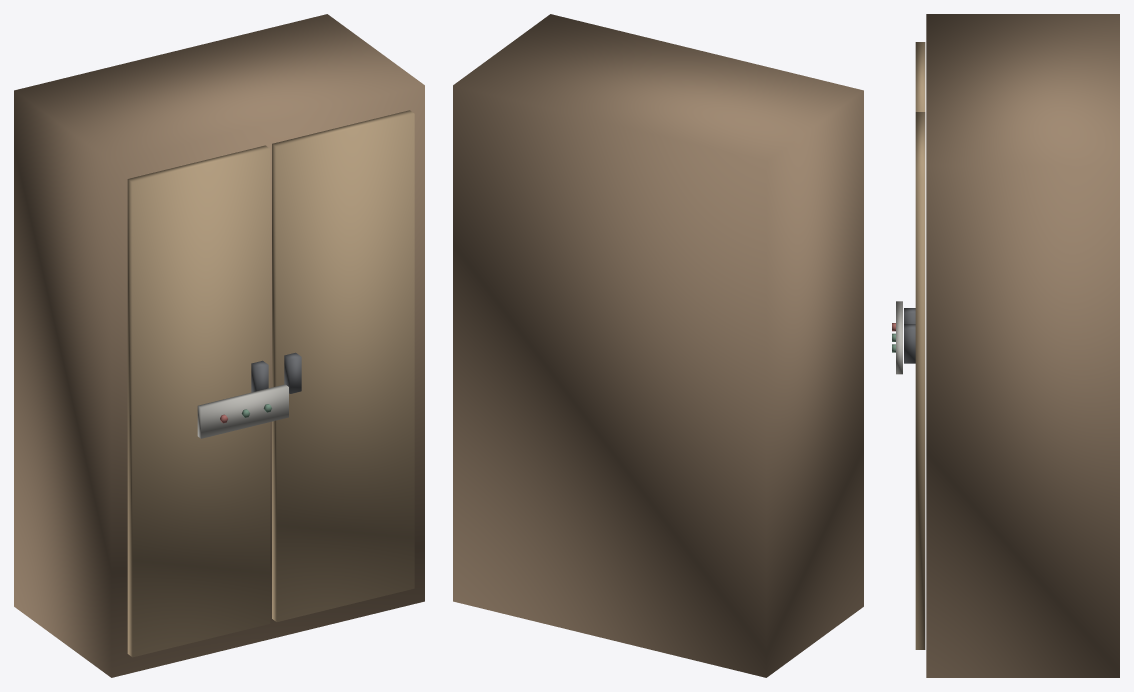
File: kitchen_base_cabinet__compact.glb
3 renders of one model, left to right at view 1: azimuth 30°, elevation 25°; view 2: azimuth 150°, elevation 25°; view 3: azimuth 270°, elevation 25°, orthographic.
Parts seen in each view (by area): view 1: world; view 2: world; view 3: world.
Part boxes in pixels (x1,y1,x2,y2): world: (14,14,424,677); world: (453,14,863,677); world: (892,14,1119,677).
Bounding box in the file's own units: 0.798 × 1.26 × 0.5061.
